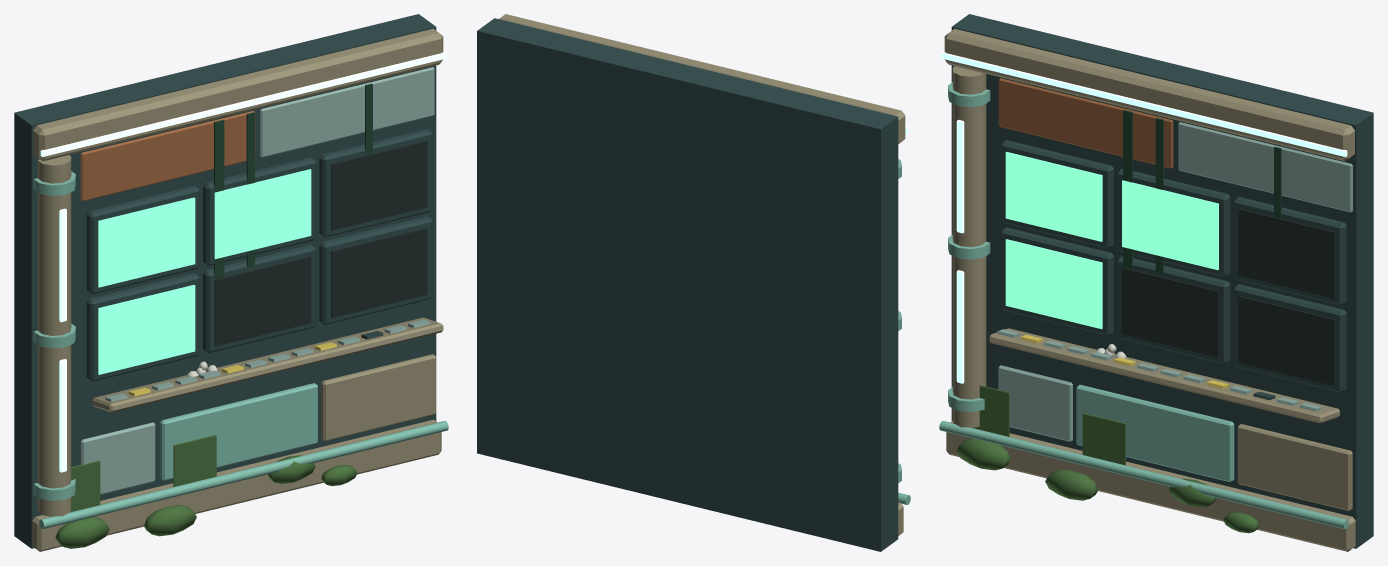
The model's file is wall_dr_screens.glb.
The picture shows the model from 3 angles, left to right: view 1: azimuth 30°, elevation 25°; view 2: azimuth 150°, elevation 25°; view 3: azimuth 330°, elevation 25°; orthographic projection.
Visible parts, largest first — view 1: wall_dr_screens; view 2: wall_dr_screens; view 3: wall_dr_screens.
Part boxes in pixels (x1,y1,x2,y2): wall_dr_screens: (14,14,448,551); wall_dr_screens: (477,14,910,551); wall_dr_screens: (939,14,1373,551).
Size of the model in its own units: 4 by 4.1 by 0.6704.
